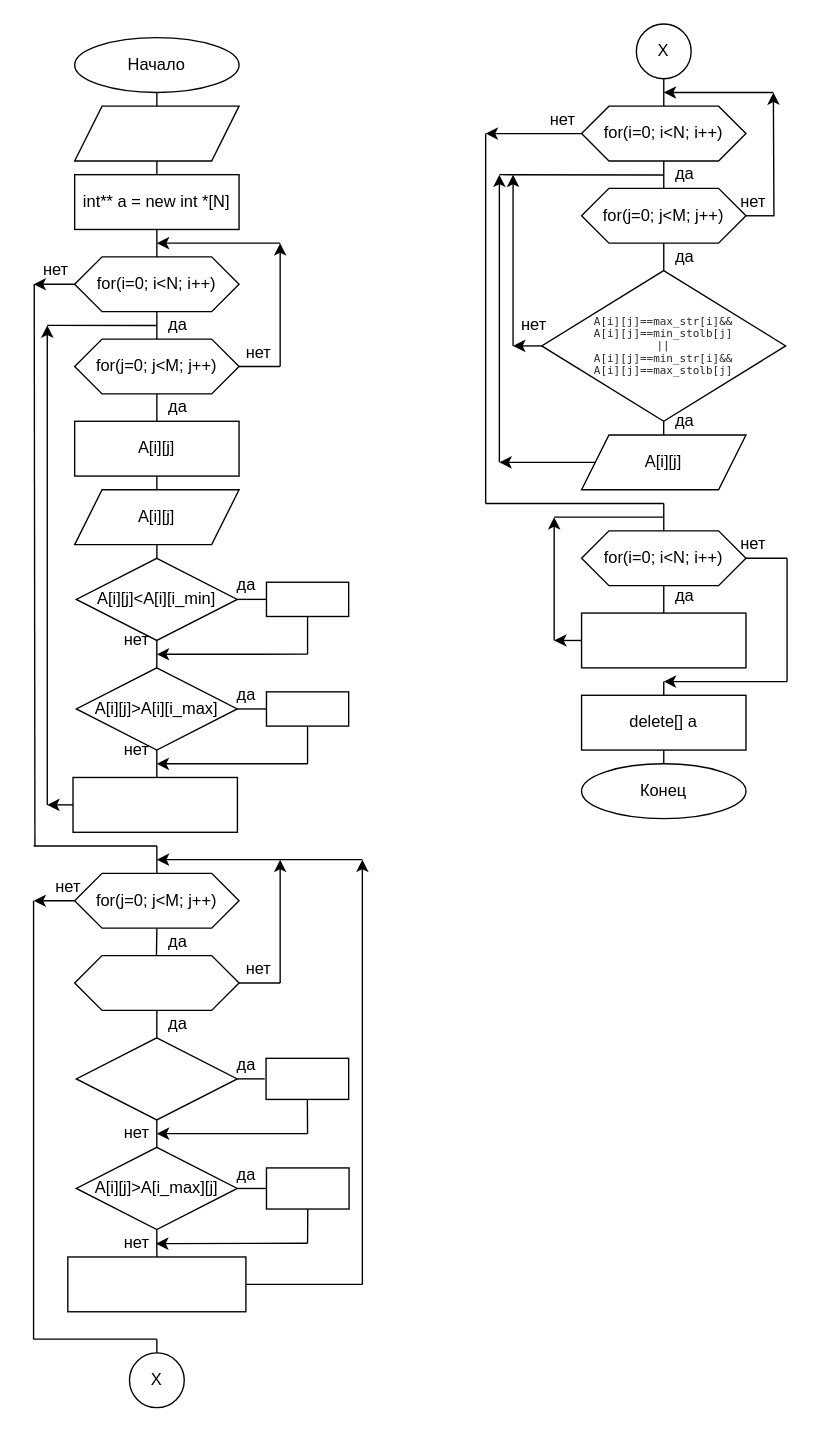
The diagram is 822 pixels wide and 1432 high, and some of its shapes have lost their labels. The shapes that lost their labels are listed below. From the top down, each one's centre as x and y in pixels, then its label:
At [156,133]: "N, M".
At [307,598]: "i_min = j".
At [663,640]: "delete[] a[i]".
At [307,708]: "i_max = j".
At [154,804]: "max_str[i]=a[i][i_max] min_str[i]=a[i][i_min]".
At [156,982]: "for(i=0; j<N; i++)".
At [156,1078]: "A[i][j]<A[i_min][j]".
At [307,1078]: "i_min = i".
At [307,1188]: "i_max = i".
At [156,1284]: "max_stolb[j]=a[i_max][j] min_stolb[j]=a[i_min][j]".
